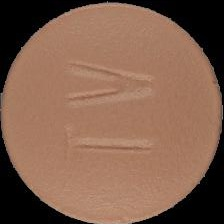0179-1898: (0, 0, 224, 224)
